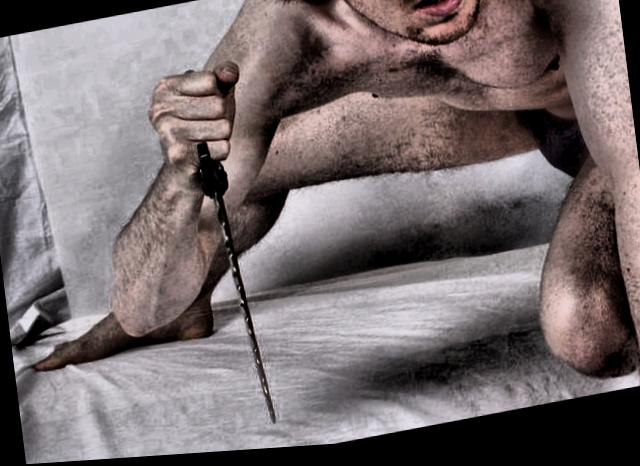knife: (134, 48, 296, 457)
